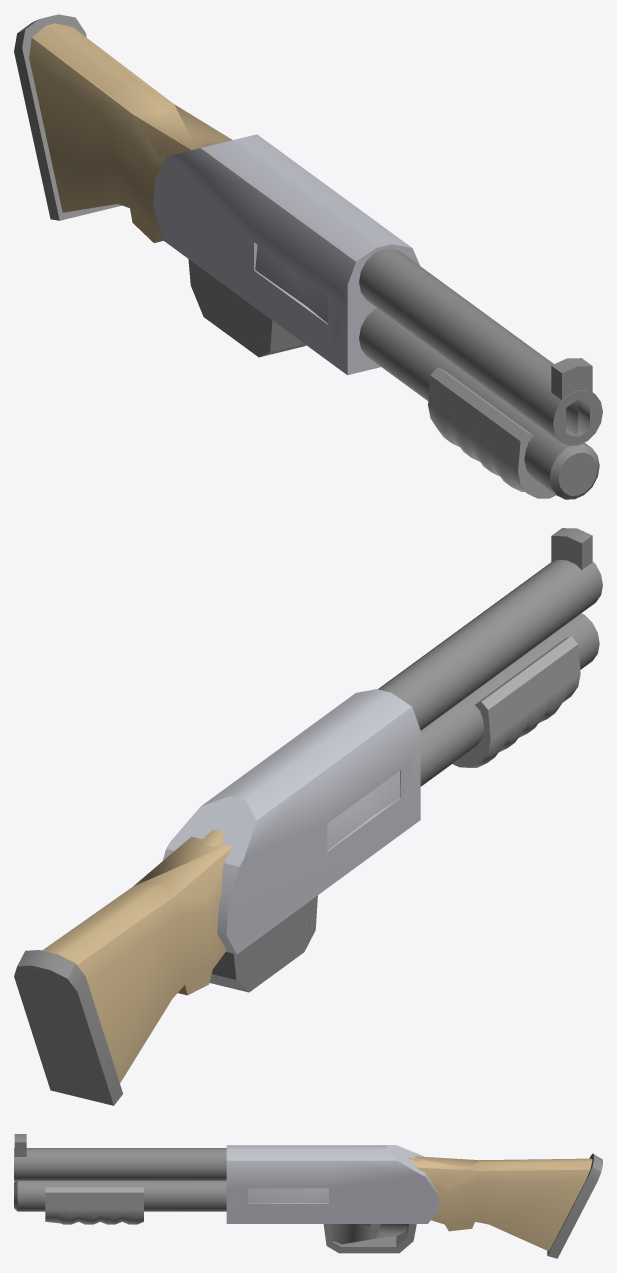
File: item_shotgun.glb
3 renders of one model, top to bottom at view 1: azimuth 30°, elevation 25°; view 2: azimuth 150°, elevation 25°; view 3: azimuth 270°, elevation 25°, orthographic. The views are drawn at different scales.
Visible parts, largest first — view 1: Shotgun_submesh_2, Shotgun_submesh_3, Shotgun_submesh_0, Shotgun_submesh_1; view 2: Shotgun_submesh_2, Shotgun_submesh_3, Shotgun_submesh_0, Shotgun_submesh_1; view 3: Shotgun_submesh_3, Shotgun_submesh_2, Shotgun_submesh_0, Shotgun_submesh_1.
Part boxes in pixels (bbox=[...]): Shotgun_submesh_2: bbox=[14, 14, 602, 499]; Shotgun_submesh_3: bbox=[153, 134, 419, 375]; Shotgun_submesh_0: bbox=[29, 23, 232, 242]; Shotgun_submesh_1: bbox=[428, 367, 556, 498]; Shotgun_submesh_2: bbox=[14, 528, 602, 1105]; Shotgun_submesh_3: bbox=[162, 689, 420, 954]; Shotgun_submesh_0: bbox=[42, 829, 232, 1082]; Shotgun_submesh_1: bbox=[452, 636, 580, 767]; Shotgun_submesh_3: bbox=[226, 1145, 439, 1223]; Shotgun_submesh_2: bbox=[14, 1134, 602, 1258]; Shotgun_submesh_0: bbox=[408, 1156, 592, 1251]; Shotgun_submesh_1: bbox=[45, 1187, 143, 1224].
Bounding box in the file's own units: 0.049 × 0.1323 × 0.6202.
